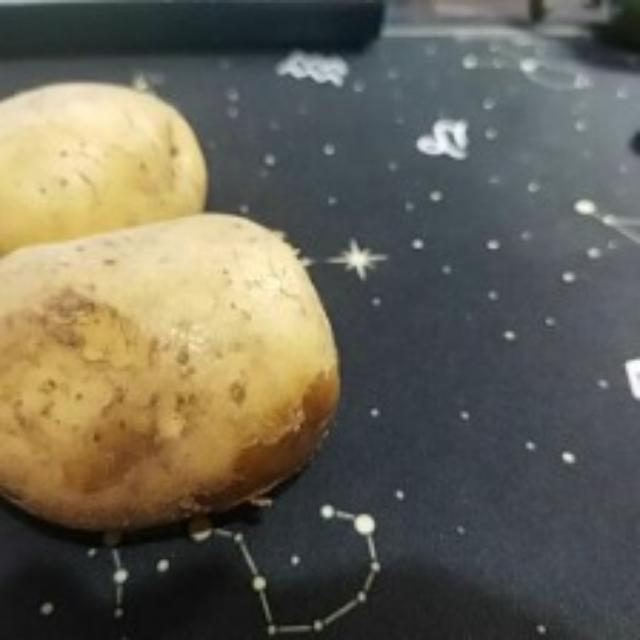Damaged potato: (1, 215, 342, 548)
Potato: (5, 80, 214, 288)
